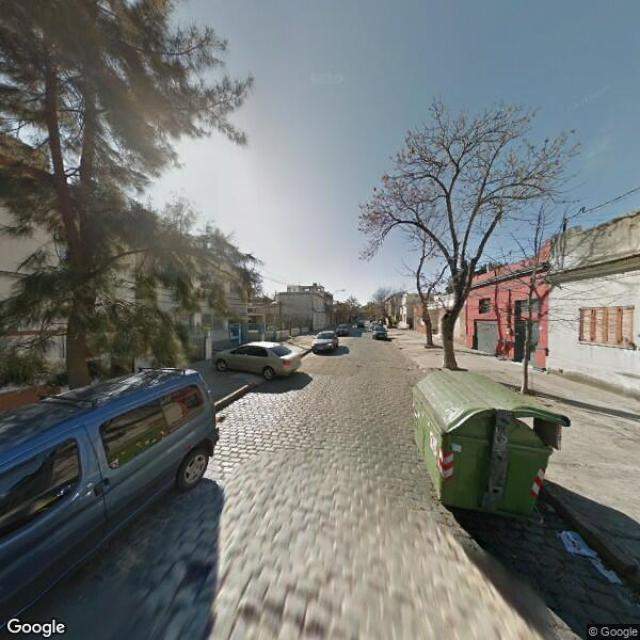garbage container: (409, 365, 580, 536)
